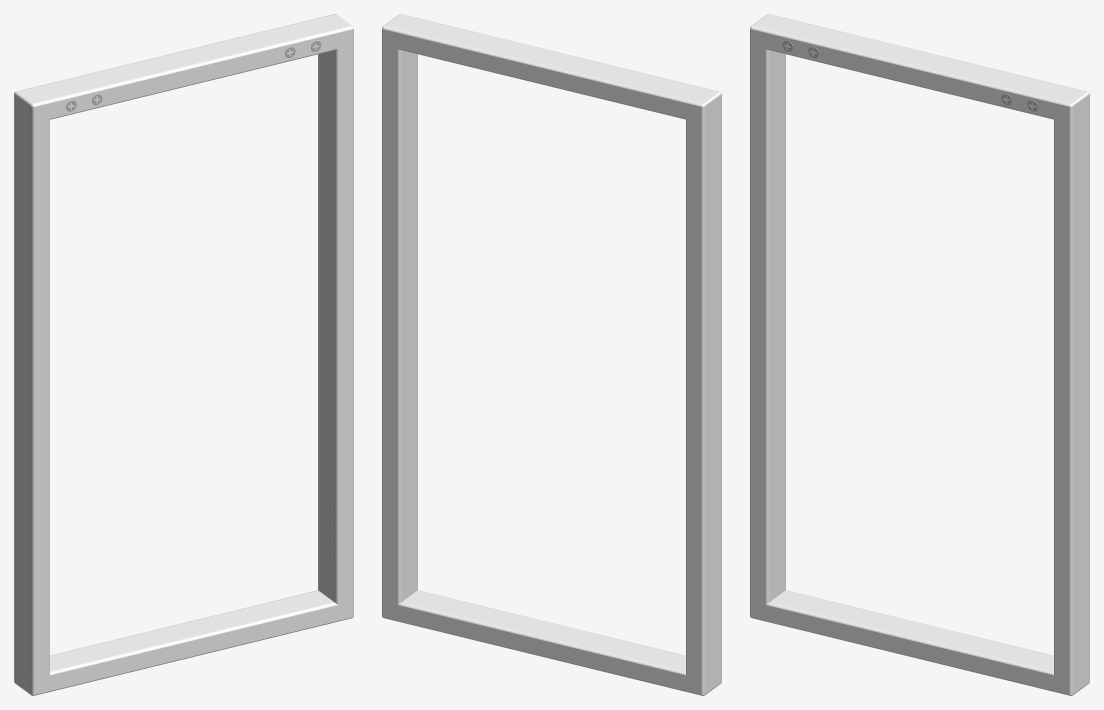
The model's file is tableCustom.glb.
3 renders of one model, left to right at view 1: azimuth 30°, elevation 25°; view 2: azimuth 150°, elevation 25°; view 3: azimuth 330°, elevation 25°, orthographic.
Visible parts, largest first — view 1: left, right, top, bottom, leftTop, leftBottom, rightTop; view 2: left, right, top, bottom, leftTop, leftBottom, rightTop; view 3: right, left, top, bottom, rightTop, leftTop, rightBottom.
Boxes of the visible parts, box(x1,y1,x2,y2) form: left: box(14, 109, 49, 681); right: box(318, 44, 353, 606); top: box(30, 17, 338, 119); bottom: box(49, 590, 339, 691); leftTop: box(14, 88, 49, 122); leftBottom: box(14, 667, 49, 695); rightTop: box(320, 14, 353, 48); left: box(686, 108, 721, 681); right: box(382, 44, 417, 605); top: box(397, 17, 705, 119); bottom: box(396, 590, 687, 691); leftTop: box(686, 88, 721, 122); leftBottom: box(687, 666, 721, 695); rightTop: box(382, 14, 415, 48); right: box(1054, 109, 1089, 681); left: box(750, 44, 785, 606); top: box(765, 17, 1073, 119); bottom: box(765, 590, 1055, 691); rightTop: box(1054, 88, 1089, 122); leftTop: box(750, 14, 783, 48); rightBottom: box(1054, 666, 1089, 695).
Bounding box in the file's own units: 0.2779 × 0.487 × 0.0294.
3 materials, 2 textured.
